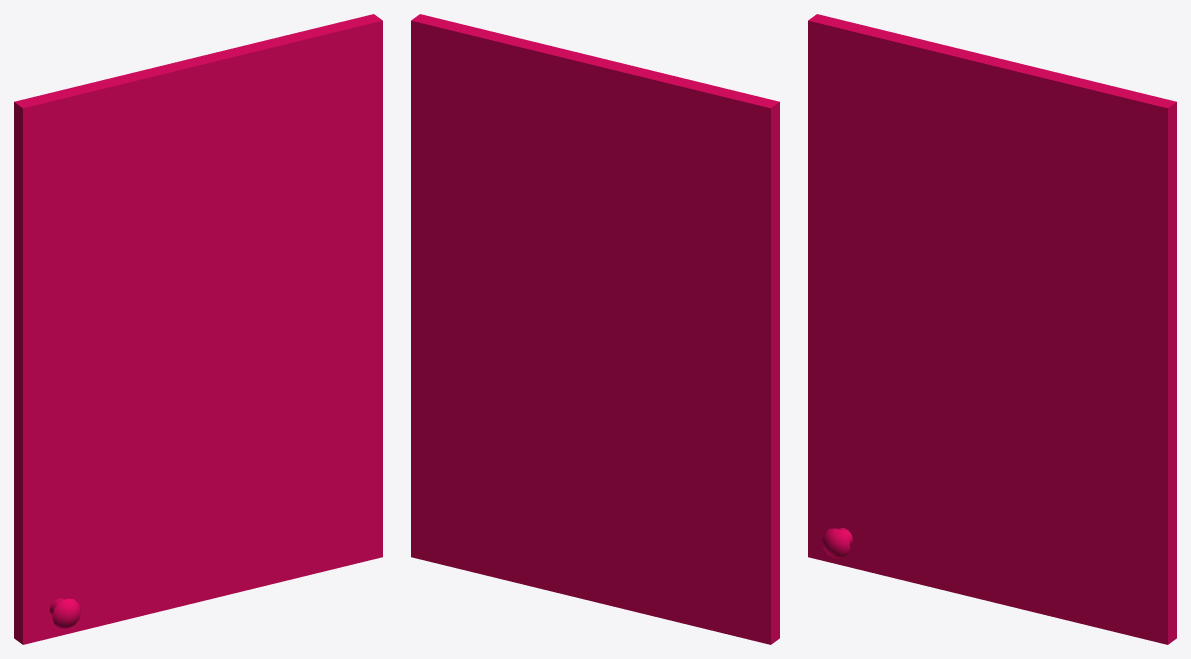
Rendered from Glass_Cupboard_Door_01.fbx.
The picture shows the model from 3 angles, left to right: view 1: azimuth 30°, elevation 25°; view 2: azimuth 150°, elevation 25°; view 3: azimuth 330°, elevation 25°; orthographic projection.
Parts seen in each view (by area): view 1: Glass_Cupboard_Door_01; view 2: Glass_Cupboard_Door_01; view 3: Glass_Cupboard_Door_01.
Part boxes in pixels (x1=…): Glass_Cupboard_Door_01: x1=14, y1=14, x2=382, y2=644; Glass_Cupboard_Door_01: x1=411, y1=14, x2=779, y2=644; Glass_Cupboard_Door_01: x1=808, y1=14, x2=1176, y2=644.
Bounding box in the file's own units: 48.52 × 69.14 × 5.04.
